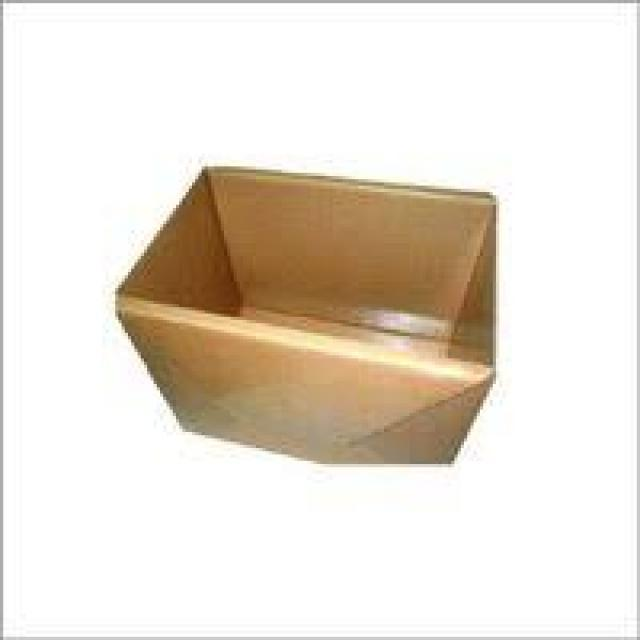PaperCardboard: (108, 163, 502, 470)
